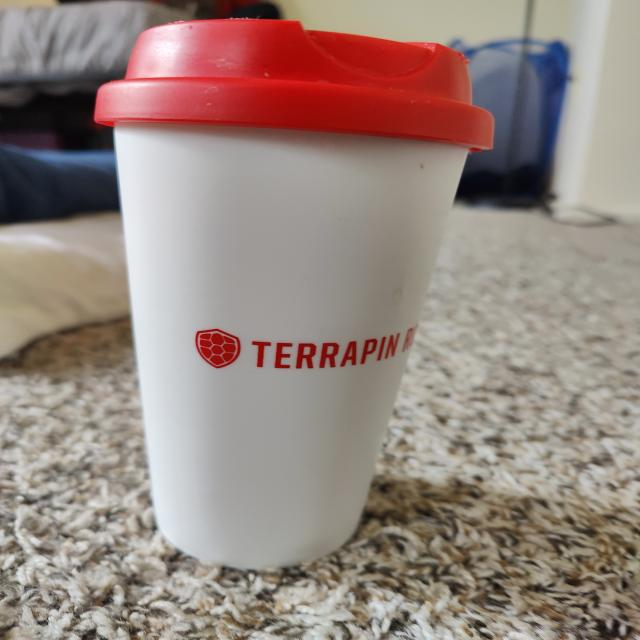mug: (105, 20, 489, 578)
